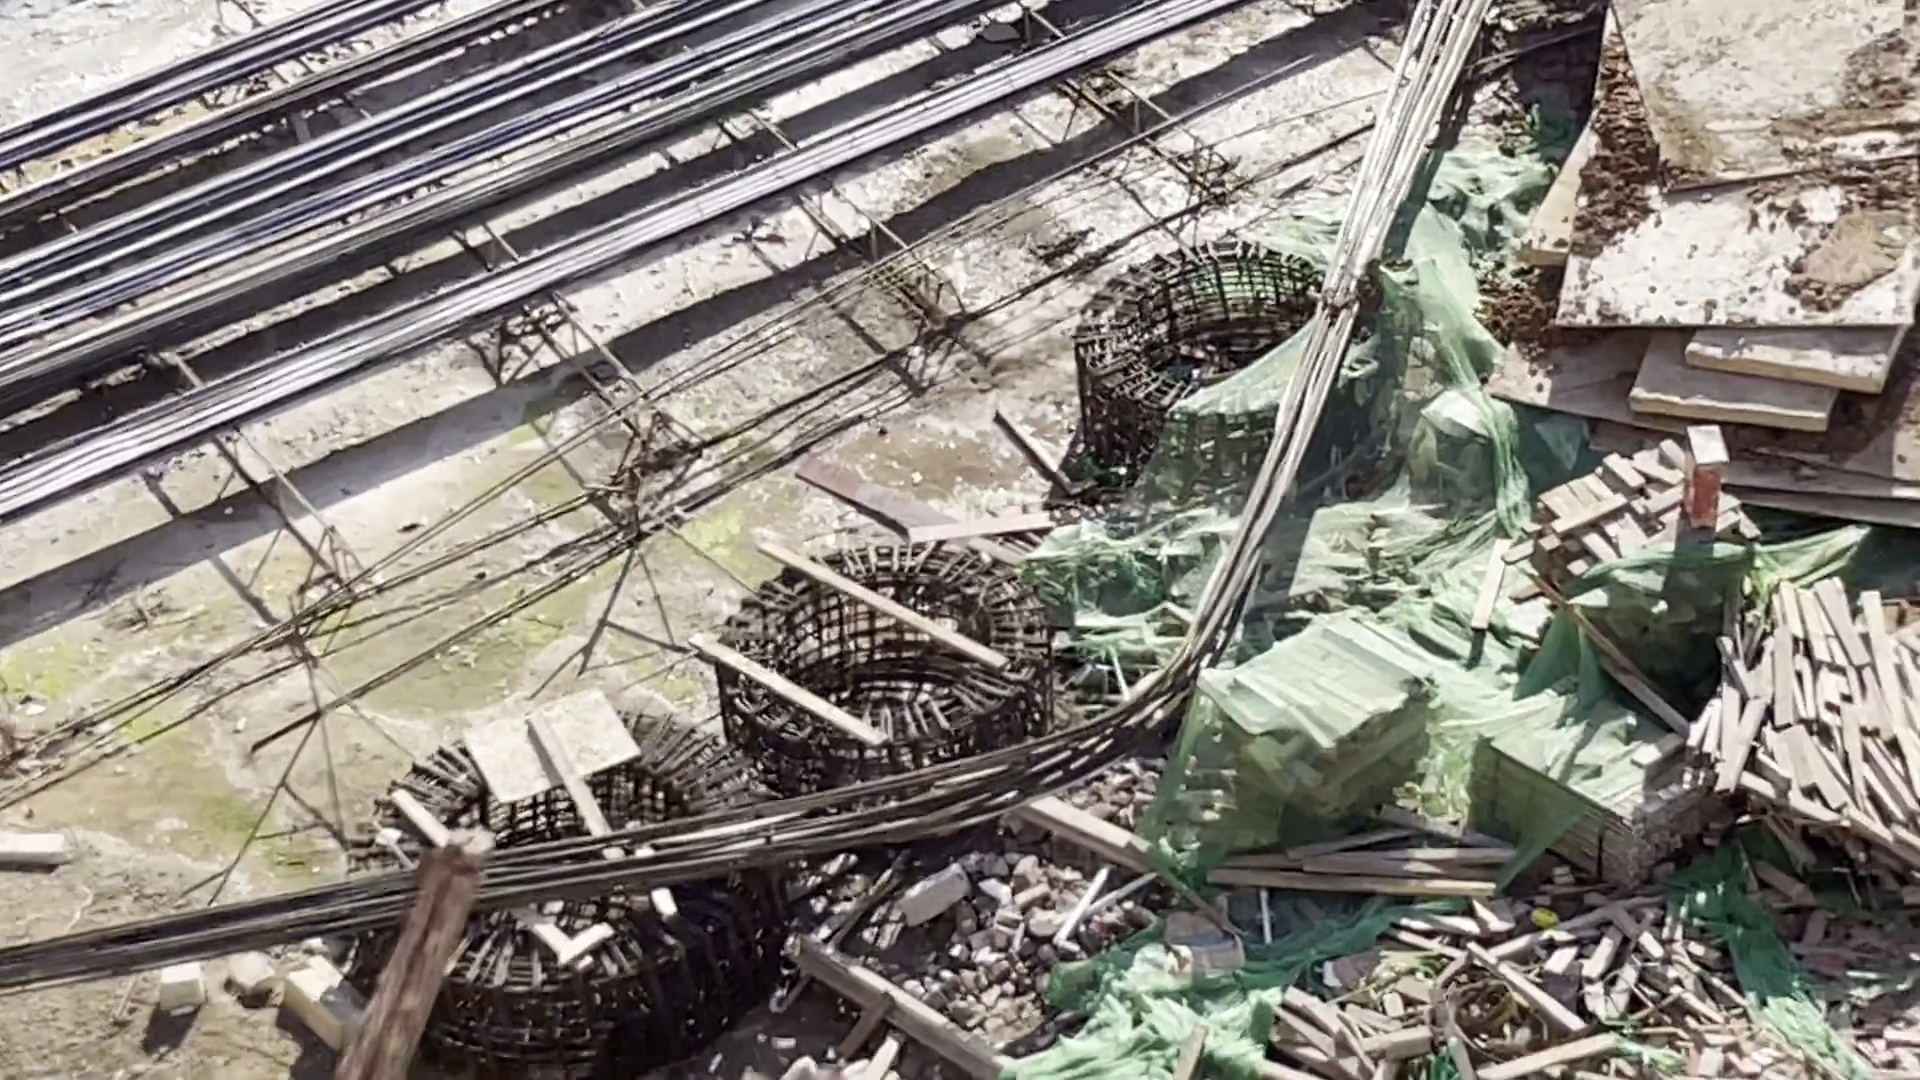board: (1472, 1, 1920, 492), (1695, 574, 1920, 920)
rebar: (1, 1, 1340, 516), (1, 732, 1083, 977)
wood: (1197, 611, 1422, 843), (1203, 611, 1435, 833), (1472, 698, 1702, 895)
